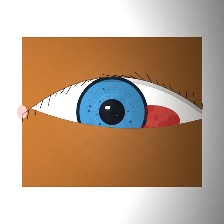hemorrhage_spot: (111, 89, 191, 153)
